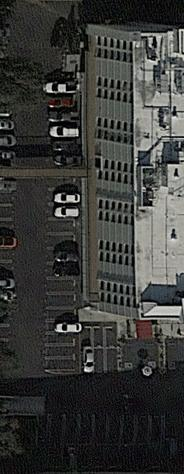parkingspot: (43, 176, 79, 371), (35, 413, 167, 447), (43, 79, 82, 168), (0, 176, 19, 343), (79, 347, 120, 376), (77, 325, 119, 350), (0, 115, 17, 171)
